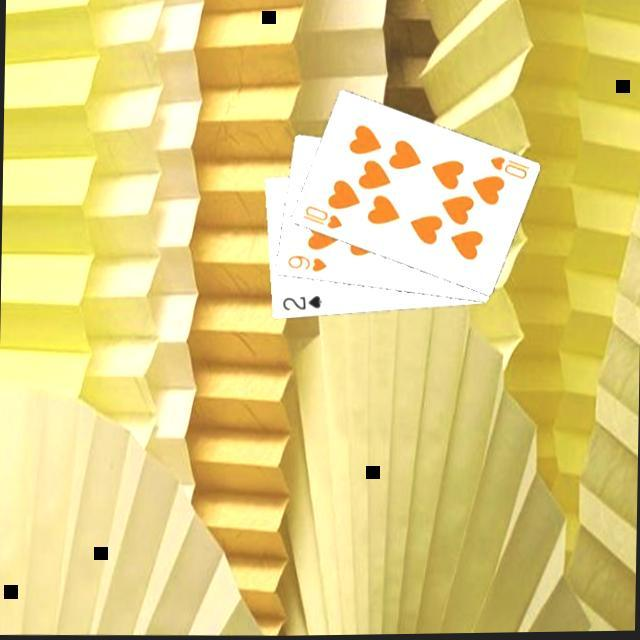10H: (484, 152, 532, 184), (297, 201, 344, 233)
2S: (277, 291, 324, 314)
9H: (282, 250, 328, 276)
